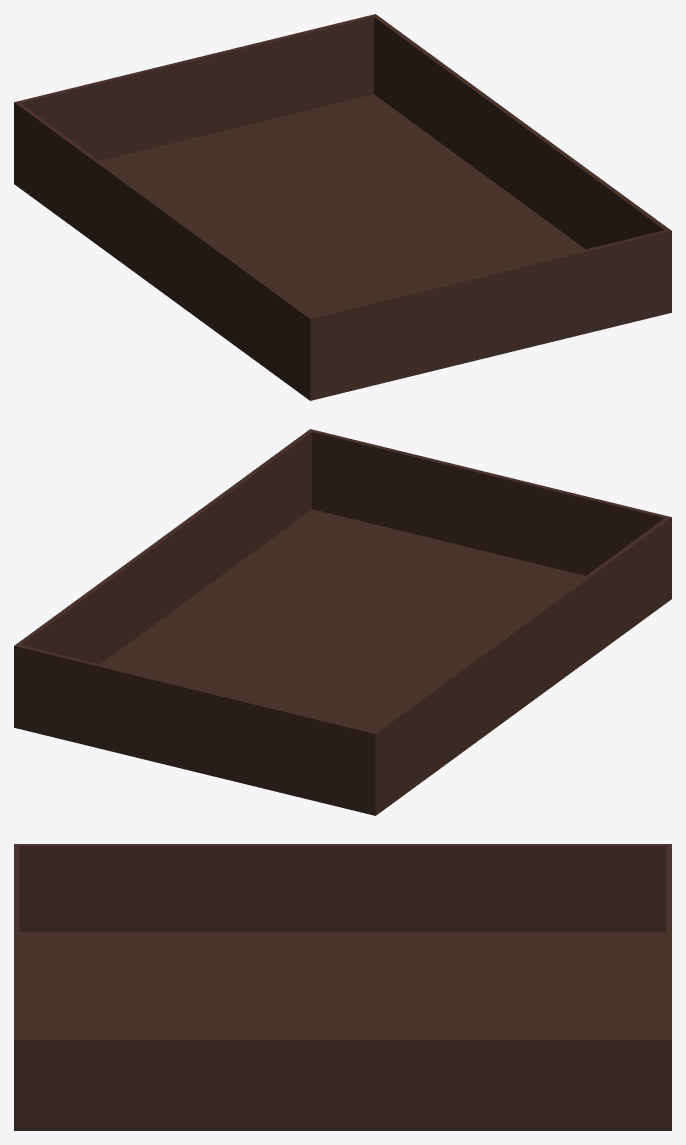
Rendered from jp_bedroom_book_hardcover_cover.glb.
3 renders of one model, top to bottom at view 1: azimuth 30°, elevation 25°; view 2: azimuth 150°, elevation 25°; view 3: azimuth 270°, elevation 25°, orthographic. The views are drawn at different scales.
Visible parts, largest first — view 1: cover; view 2: cover; view 3: cover.
Boxes of the visible parts, x1,y1,x2,y2 form: cover: (14, 14, 671, 400); cover: (14, 429, 671, 815); cover: (14, 844, 671, 1130).
Bounding box in the file's own units: 0.148 × 0.032 × 0.21.
